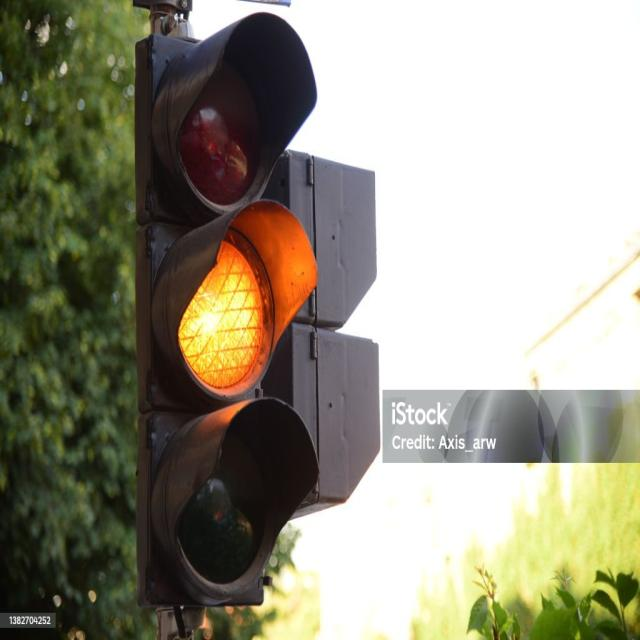traffic light: (131, 90, 382, 615), (132, 11, 320, 610), (198, 117, 381, 608)
